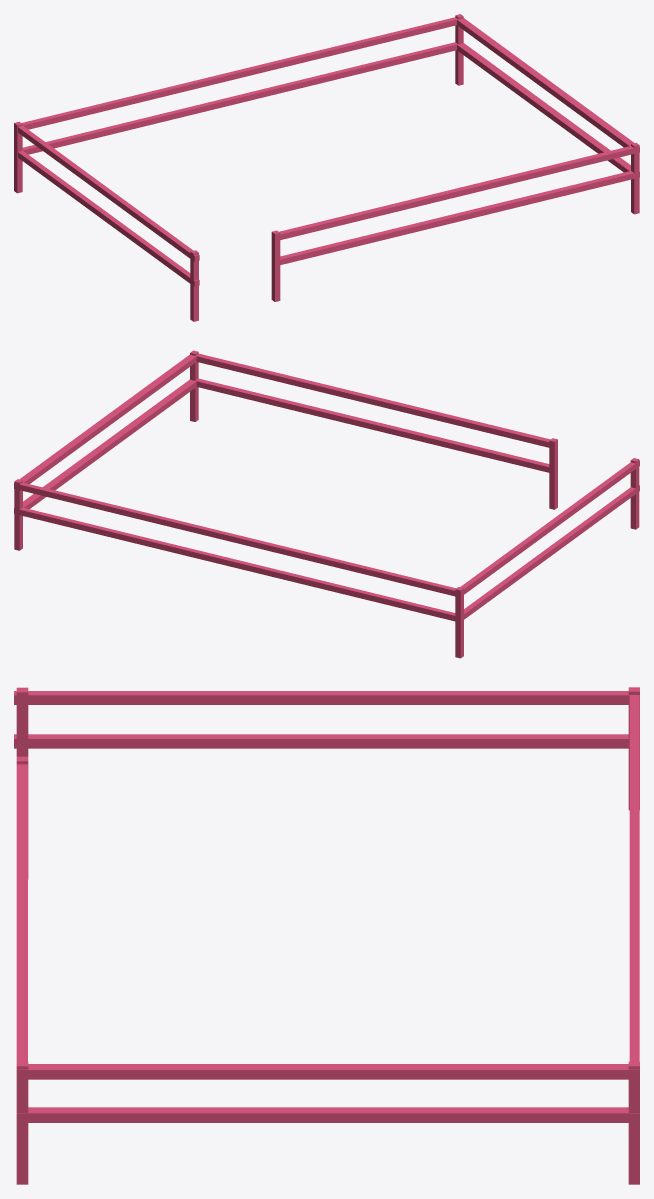
The model's file is fence.fbx.
3 renders of one model, top to bottom at view 1: azimuth 30°, elevation 25°; view 2: azimuth 150°, elevation 25°; view 3: azimuth 270°, elevation 25°, orthographic. The views are drawn at different scales.
Visible parts, largest first — view 1: Cube.002; view 2: Cube.002; view 3: Cube.002.
Part boxes in pixels (bbox=[...]): Cube.002: bbox=[14, 14, 639, 321]; Cube.002: bbox=[14, 350, 639, 658]; Cube.002: bbox=[14, 687, 639, 1184].
Size of the model in its own units: 36.66 by 5.33 by 25.56.
